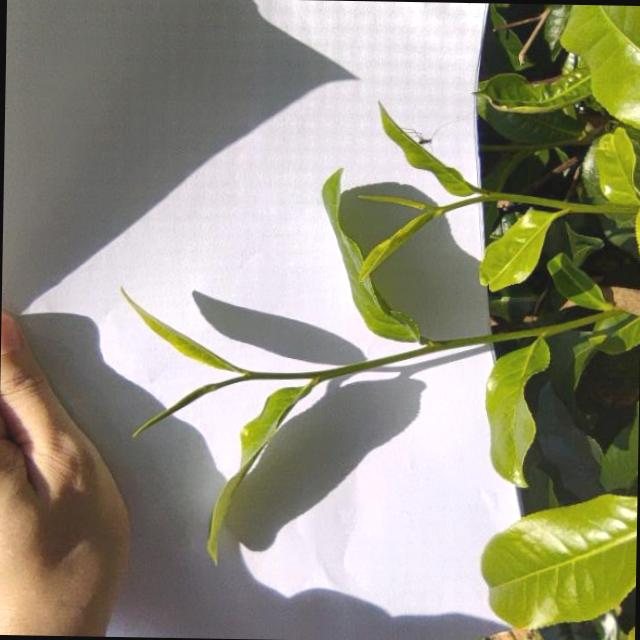Stem: (244, 370, 256, 380), (482, 191, 493, 201)
